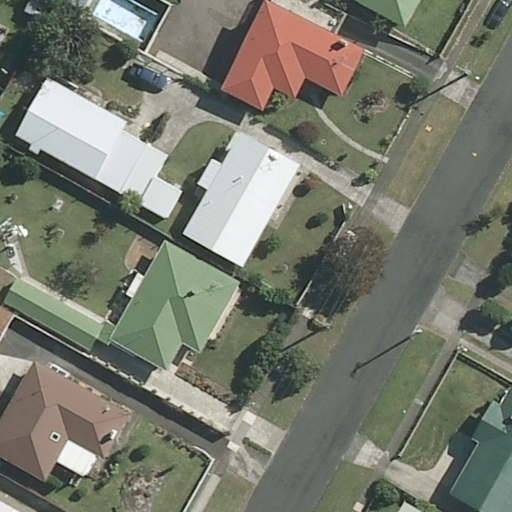DT: (405, 322, 423, 339), (453, 65, 472, 79)
